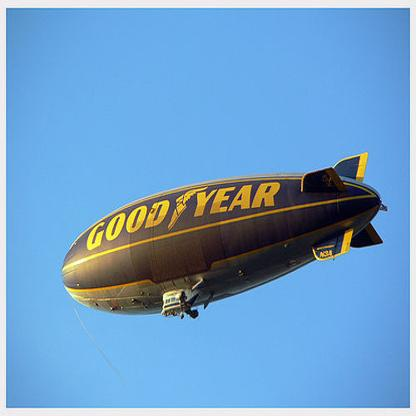Airship: (60, 153, 390, 318)
